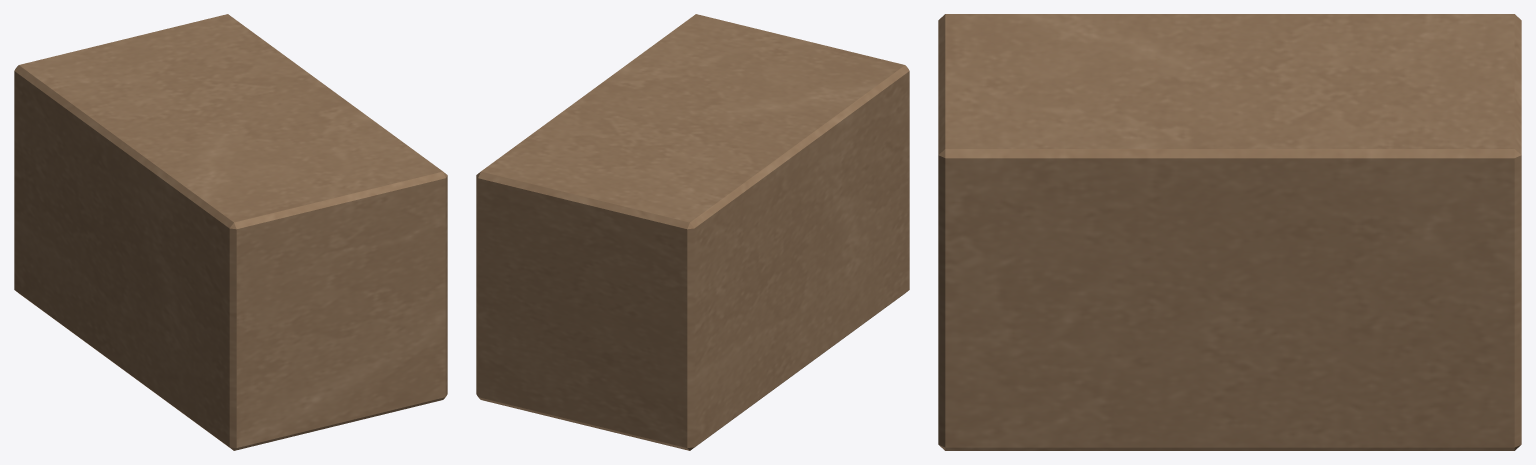
File: Brick.FBX
3 renders of one model, left to right at view 1: azimuth 30°, elevation 25°; view 2: azimuth 150°, elevation 25°; view 3: azimuth 270°, elevation 25°, orthographic. The views are drawn at different scales.
Parts seen in each view (by area): view 1: Brick_01; view 2: Brick_01; view 3: Brick_01.
Part boxes in pixels (x1,y1,x2,y2): Brick_01: (14, 14, 447, 450); Brick_01: (476, 14, 909, 450); Brick_01: (938, 14, 1521, 450).
Size of the model in its own units: 24 by 24 by 42.
